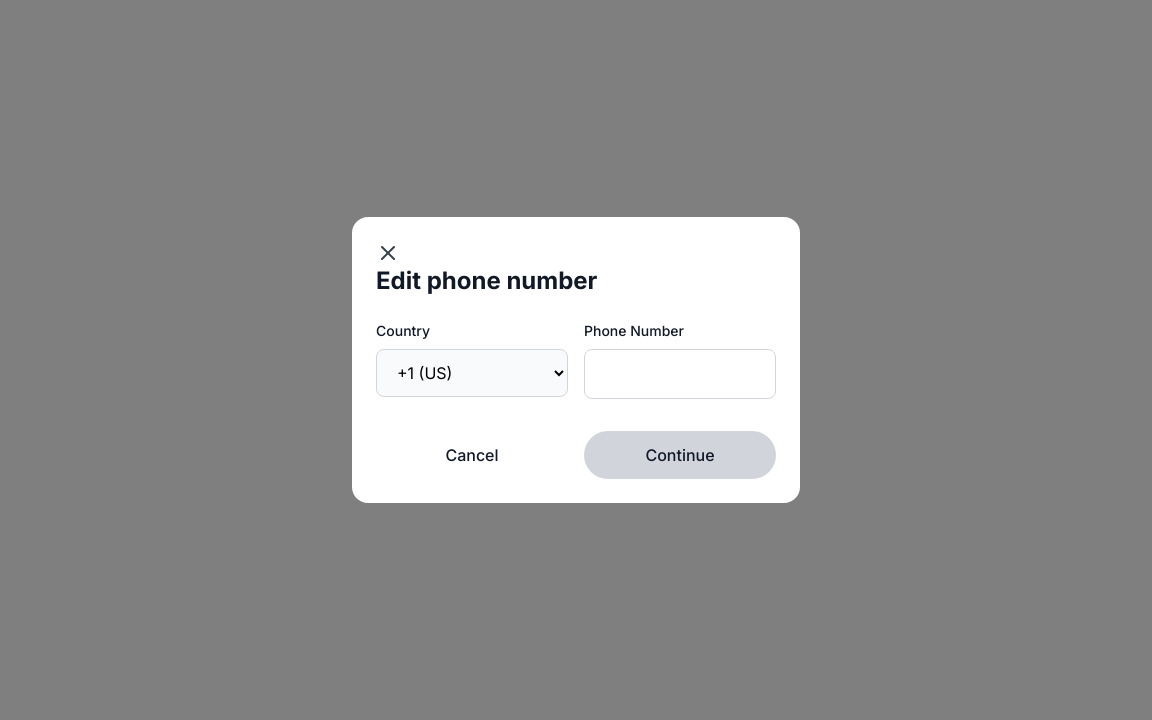
Scenario: EditPhoneModal › should only allow numeric input for phone number
Type "abc123def456" into the field labelled "Phone Number" at (680, 374), box [584,349,776,399]
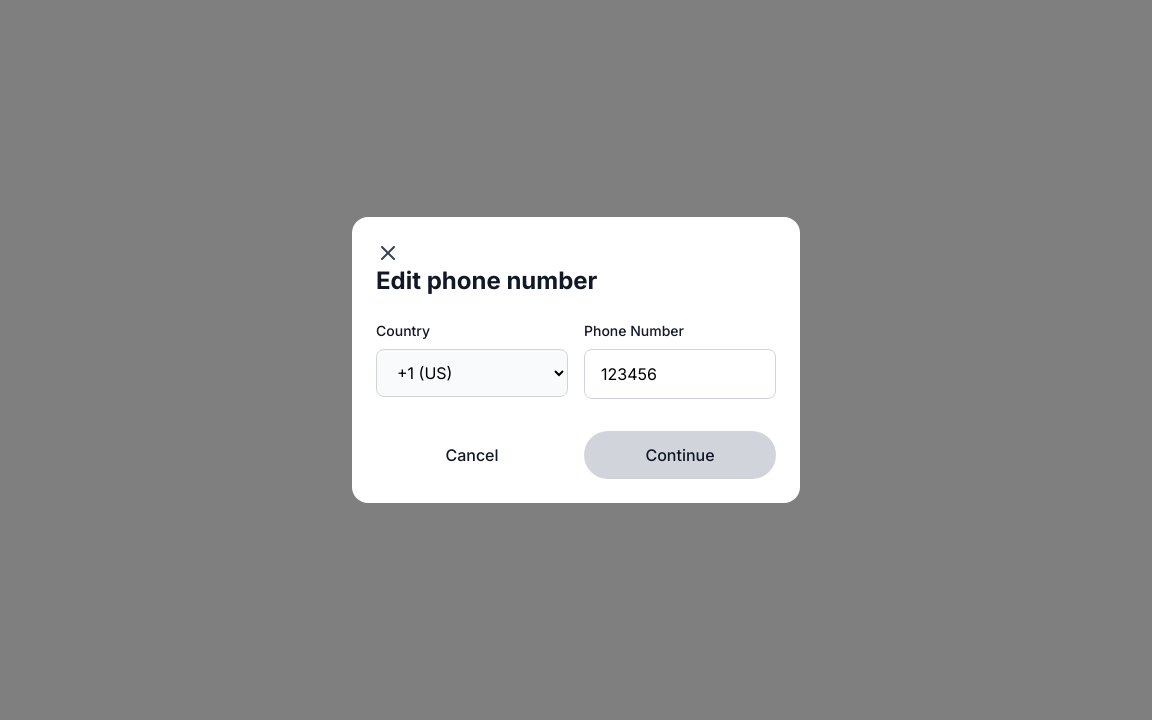
Expected: the field labelled "Phone Number" holds "123456", [584,349,776,399]
